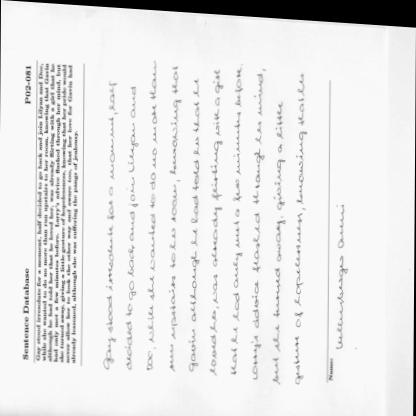Handwritten text: (95, 74, 121, 371), (223, 51, 246, 378), (290, 65, 312, 383), (246, 67, 268, 384), (203, 61, 225, 376), (162, 60, 184, 372), (118, 76, 141, 372), (267, 95, 290, 383), (139, 54, 159, 376), (186, 65, 204, 376)
